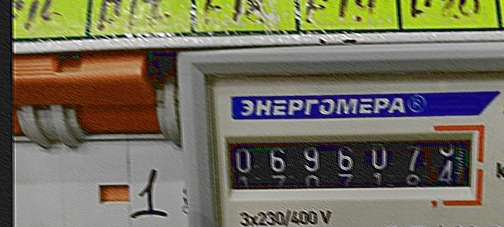0: (369, 140, 388, 170), (234, 145, 252, 173)
4: (436, 155, 454, 184)
6: (336, 141, 354, 171), (268, 144, 286, 172)
7: (403, 141, 423, 172)
9: (301, 144, 320, 172)
screen: (212, 120, 490, 205)
